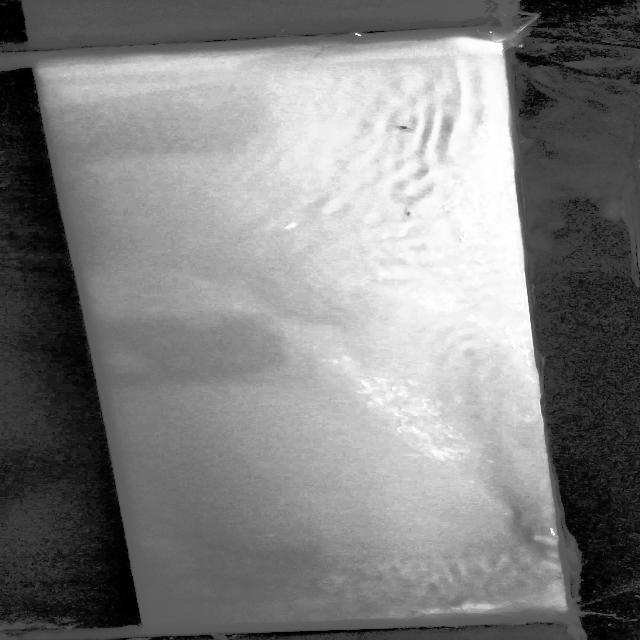shrimp: (393, 122, 428, 134), (396, 204, 419, 219)
